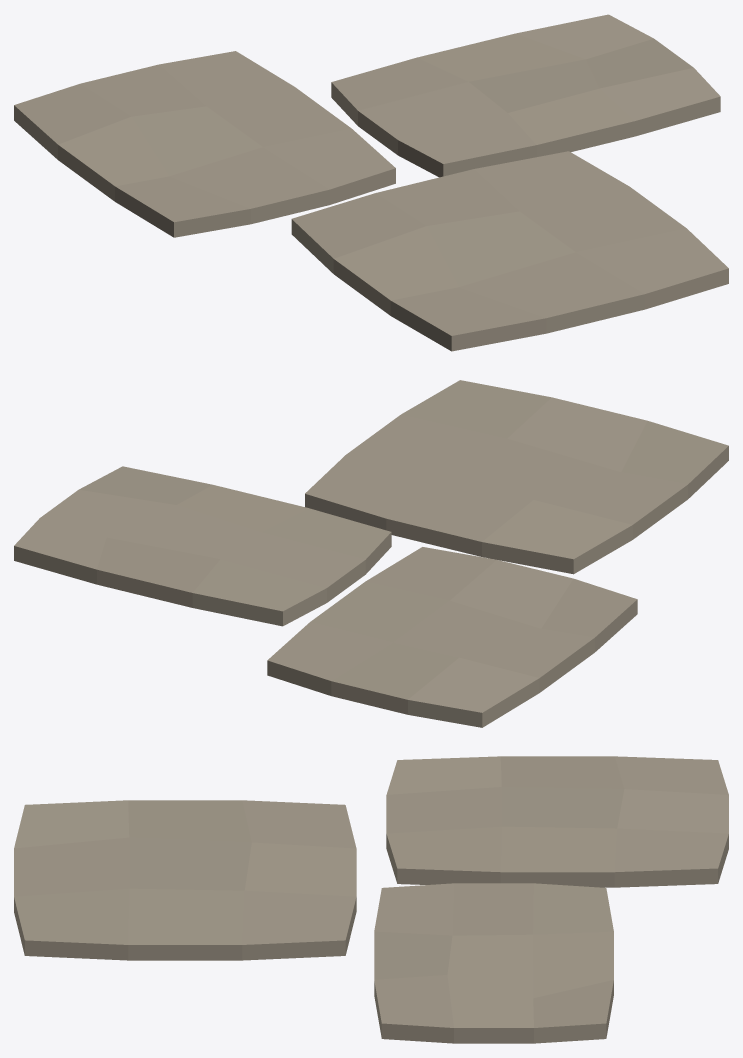
File: tiles.fbx
3 renders of one model, top to bottom at view 1: azimuth 30°, elevation 25°; view 2: azimuth 150°, elevation 25°; view 3: azimuth 270°, elevation 25°, orthographic. The views are drawn at different scales.
Parts seen in each view (by area): view 1: Куб; view 2: Куб; view 3: Куб.
Boxes of the visible parts, left/top/right/bottom form: Куб: left=14, top=14, right=728, bottom=351; Куб: left=14, top=380, right=728, bottom=727; Куб: left=14, top=756, right=728, bottom=1043.
Size of the model in its own units: 375 by 13.55 by 418.
